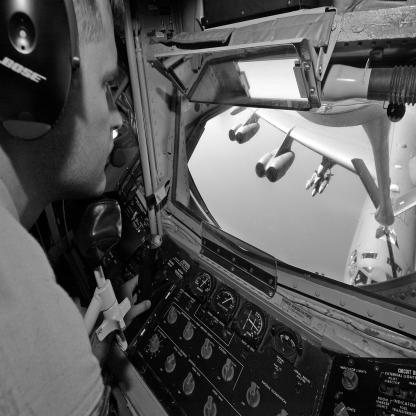B52: (229, 104, 416, 288)
